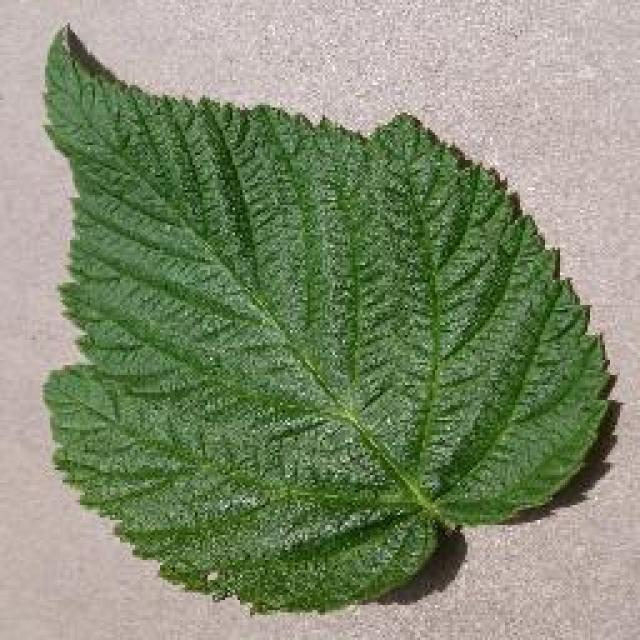Ras_healthy: (51, 92, 568, 564)
